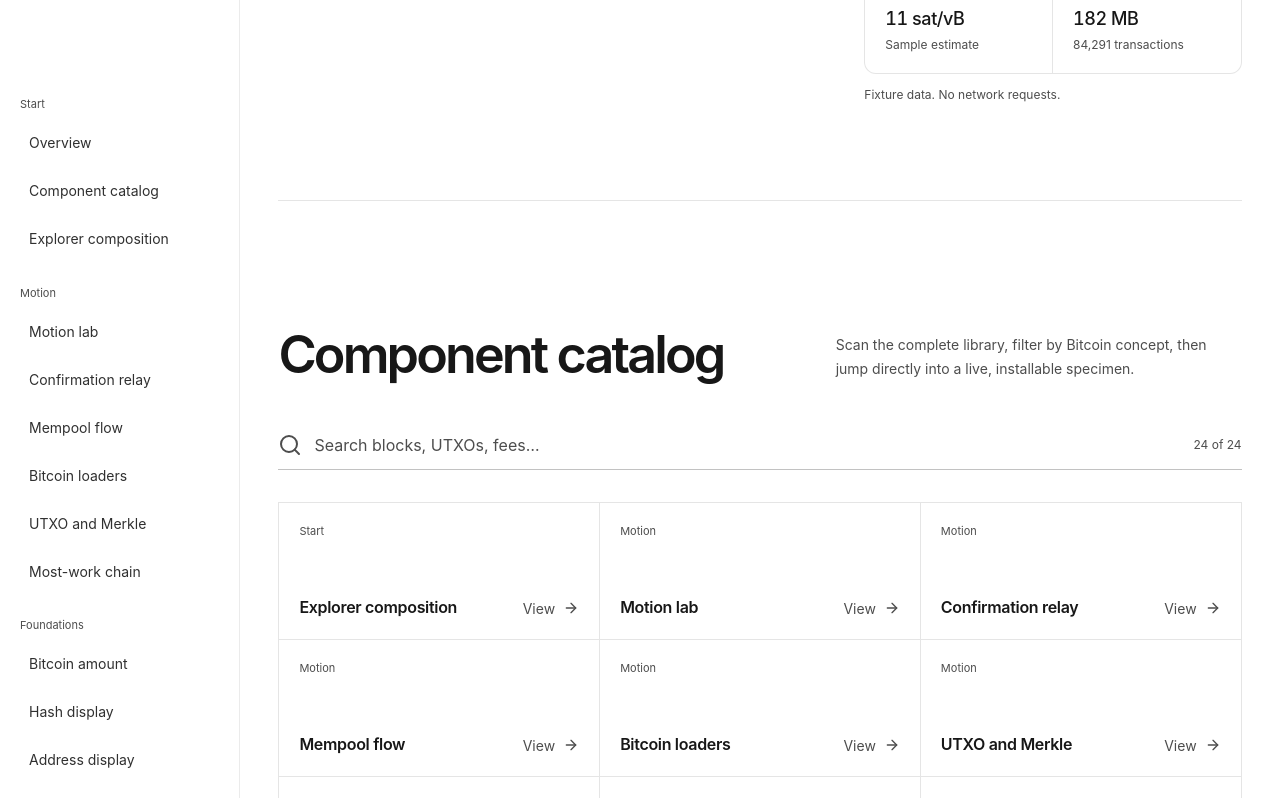
Test: Bitcoin gallery › filters the component catalog by Bitcoin concept
(page scrolled)
Type "merkle" into the search field named "Search components" at (748, 445), box [314, 421, 1181, 469]
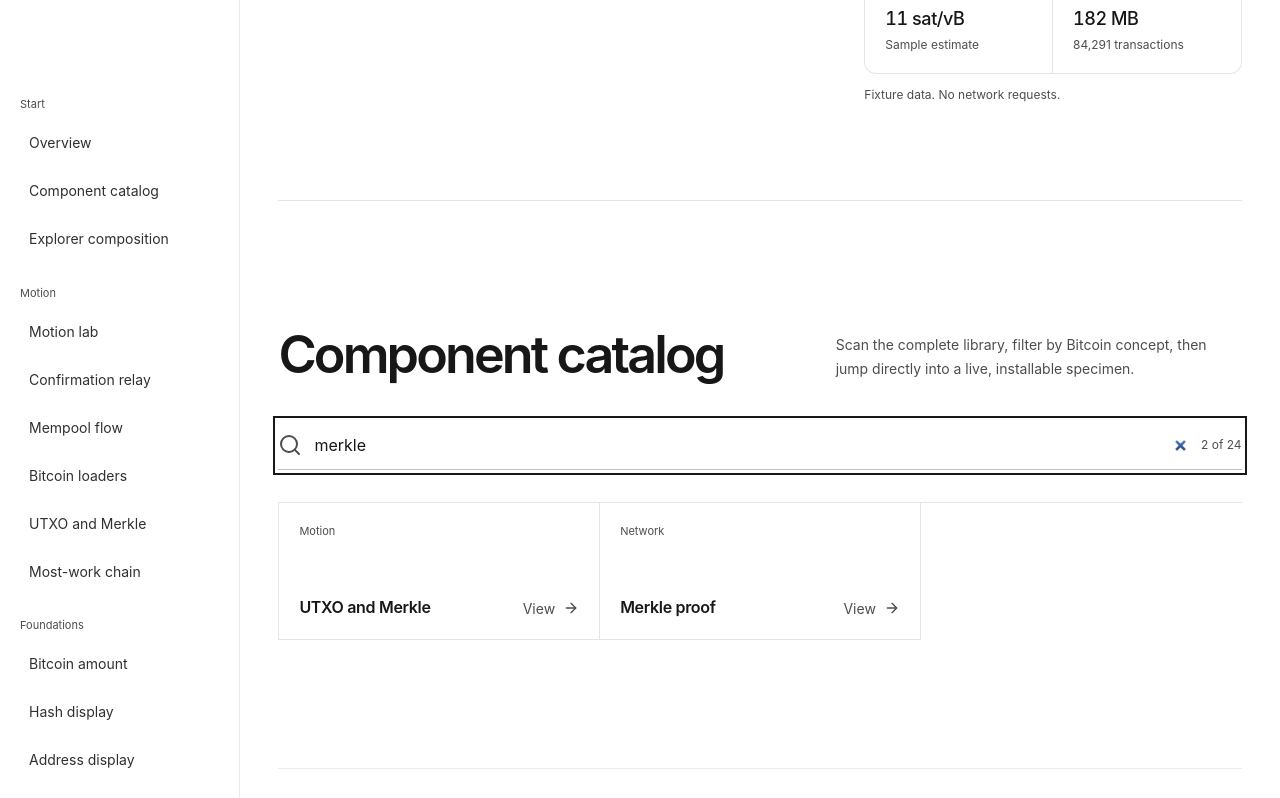
Expected: the link "Motion UTXO and Merkle View" is shown, [279, 503, 599, 639]
Result: the text "2 of 24" is shown at [1201, 436, 1242, 454]
